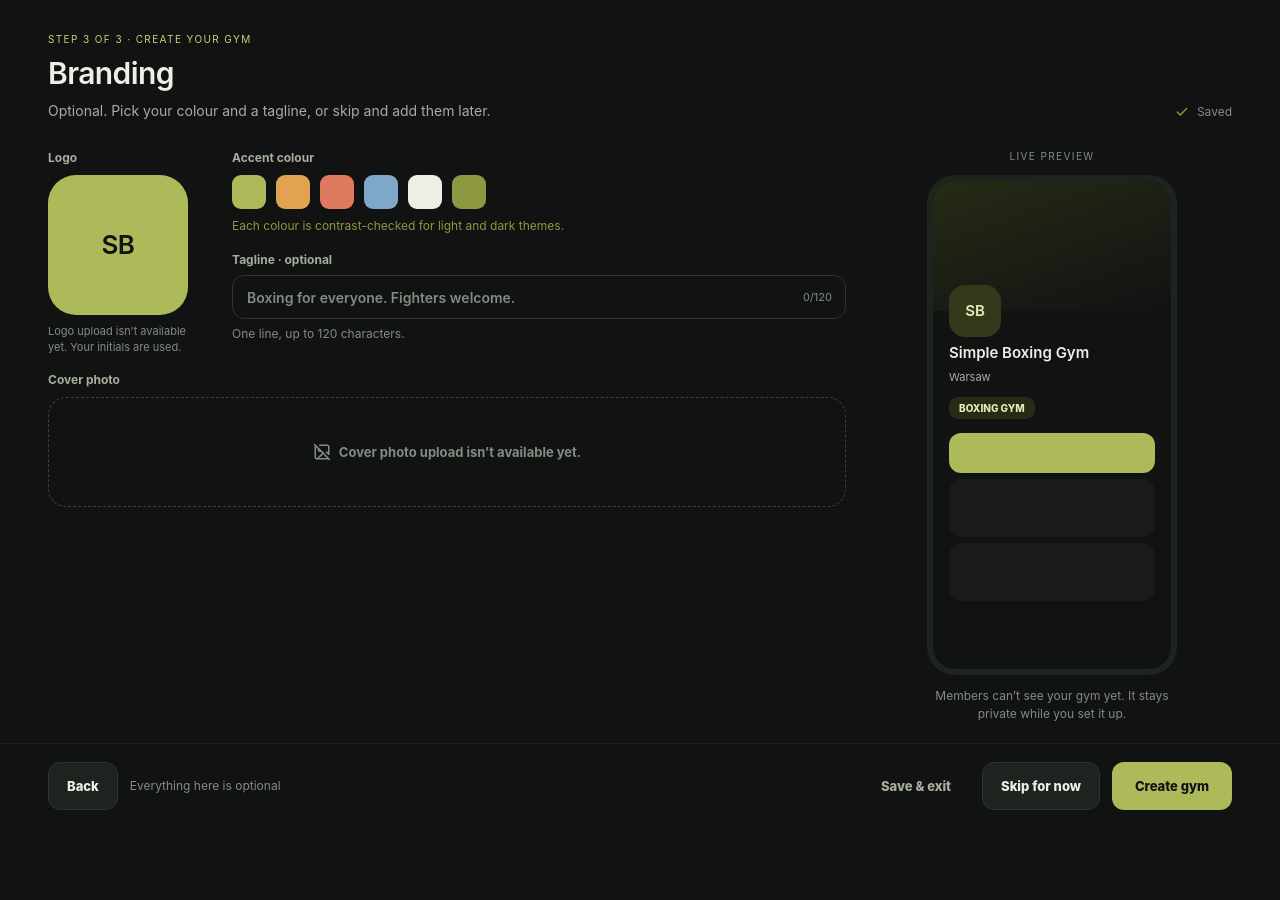
BrandingStep (OG3) › an unconfirmed completion claims nothing
Click the button "Create gym".
click(1172, 786)  # box [1112,762,1232,810]
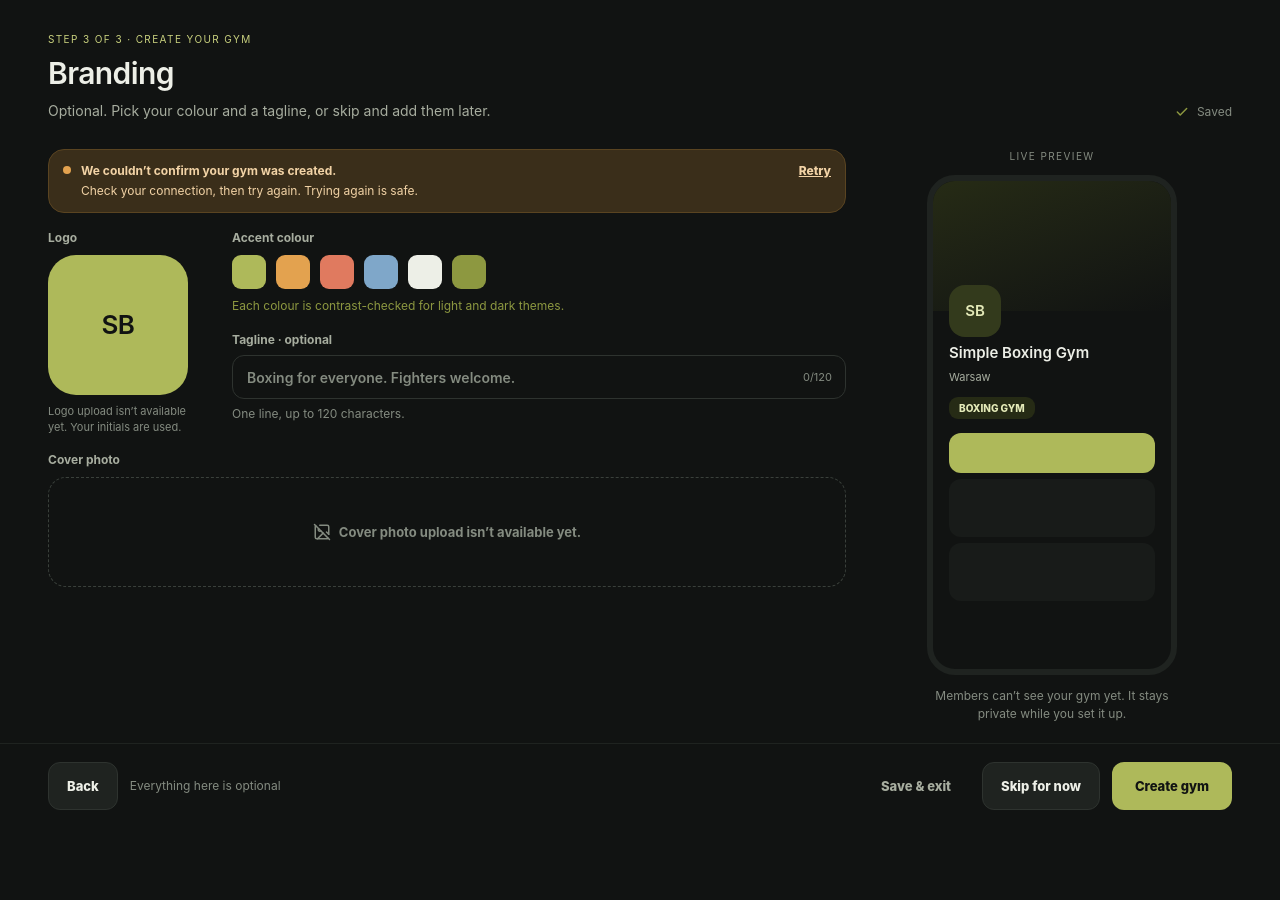
Now the text "We couldn’t confirm your gym was created." is shown, box [81,163,336,178]
